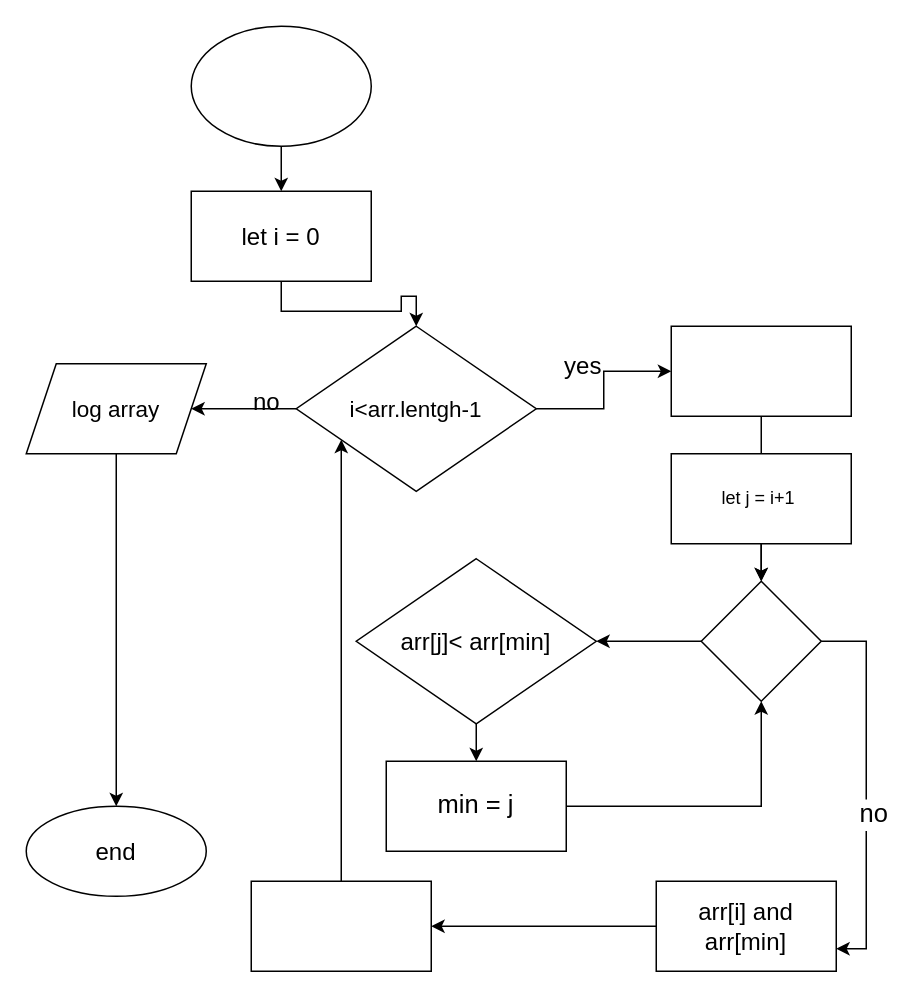
Image size: 914x998. Some labels were removed from this diagram. Here are the shapes that lost their labels. From the top down, the centre of each, then its label:
the point at 280,85: start
the point at 760,370: let min=i
the point at 760,640: n>J
the point at 340,925: i++
